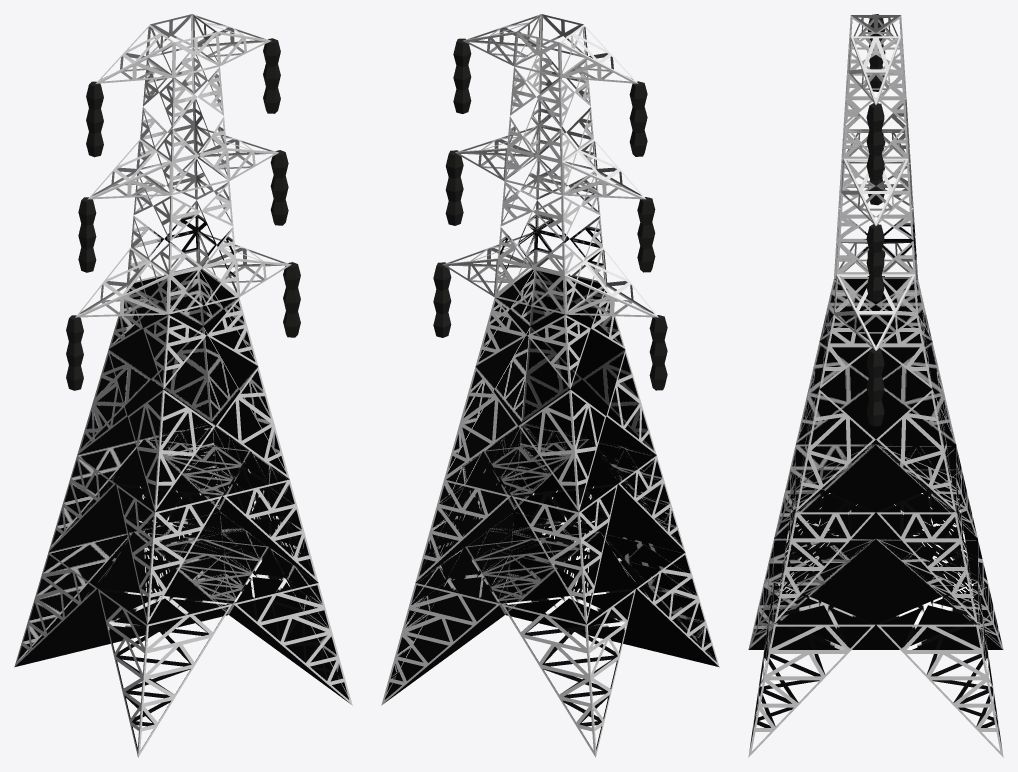
The model's file is TRANSMISSION_TOWER.glb.
The picture shows the model from 3 angles, left to right: view 1: azimuth 30°, elevation 25°; view 2: azimuth 150°, elevation 25°; view 3: azimuth 270°, elevation 25°; orthographic projection. The views are drawn at different scales.
Parts seen in each view (by area): view 1: LOWER.003, Pylon.012, Pylon.001, Pylon.003, HIGHER.002, Pylon.002, WING, WING.002, WING.001, CERAMICS.003, CERAMICS.004, CERAMICS.005 (+3 smaller); view 2: LOWER.003, Pylon.012, Pylon.002, Pylon.003, HIGHER.002, Pylon.001, WING, WING.002, WING.001, CERAMICS.005, CERAMICS.004, CERAMICS.003 (+4 smaller); view 3: LOWER.003, Pylon.003, Pylon.012, HIGHER.002, Pylon.002, Pylon.001, WING.003, CERAMICS.000, CERAMICS.001, CERAMICS_002, WING.004, WING.005 (+1 smaller).
Boxes of the visible parts, bbox=[...] form: LOWER.003: bbox=[14, 269, 349, 703]; Pylon.012: bbox=[26, 14, 348, 750]; Pylon.001: bbox=[98, 37, 232, 757]; Pylon.003: bbox=[134, 14, 352, 705]; HIGHER.002: bbox=[127, 14, 239, 313]; Pylon.002: bbox=[14, 27, 168, 666]; WING: bbox=[75, 247, 169, 317]; WING.002: bbox=[87, 139, 171, 199]; WING.001: bbox=[95, 24, 174, 83]; CERAMICS.003: bbox=[86, 81, 103, 157]; CERAMICS.004: bbox=[78, 197, 96, 272]; CERAMICS.005: bbox=[66, 315, 83, 390]; LOWER.003: bbox=[384, 269, 719, 703]; Pylon.012: bbox=[385, 14, 716, 750]; Pylon.002: bbox=[501, 37, 656, 757]; Pylon.003: bbox=[381, 20, 599, 705]; HIGHER.002: bbox=[494, 14, 604, 311]; Pylon.001: bbox=[574, 27, 719, 666]; WING: bbox=[564, 247, 658, 317]; WING.002: bbox=[562, 139, 646, 199]; WING.001: bbox=[559, 24, 638, 83]; CERAMICS.005: bbox=[649, 315, 667, 390]; CERAMICS.004: bbox=[637, 197, 655, 272]; CERAMICS.003: bbox=[629, 81, 647, 156]; LOWER.003: bbox=[749, 279, 1002, 649]; Pylon.003: bbox=[748, 36, 1003, 757]; Pylon.012: bbox=[750, 15, 1001, 747]; HIGHER.002: bbox=[834, 15, 917, 311]; Pylon.002: bbox=[876, 18, 1003, 649]; Pylon.001: bbox=[748, 18, 875, 649]; WING.003: bbox=[834, 274, 916, 350]; CERAMICS.000: bbox=[866, 103, 884, 180]; CERAMICS.001: bbox=[866, 224, 884, 301]; CERAMICS_002: bbox=[866, 349, 884, 426]; WING.004: bbox=[841, 158, 910, 225]; WING.005: bbox=[848, 36, 903, 104].
Size of the model in its own units: 13.57 by 36.74 by 12.53.
3 materials, 2 textured.
